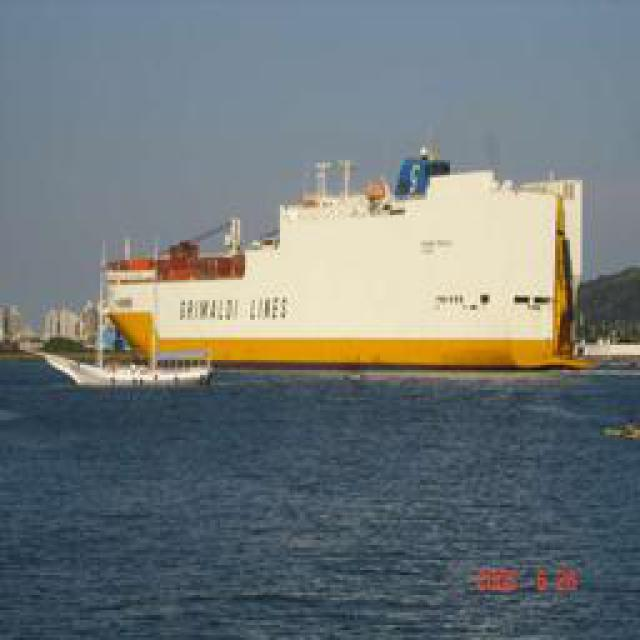Ship: (80, 163, 593, 378)
